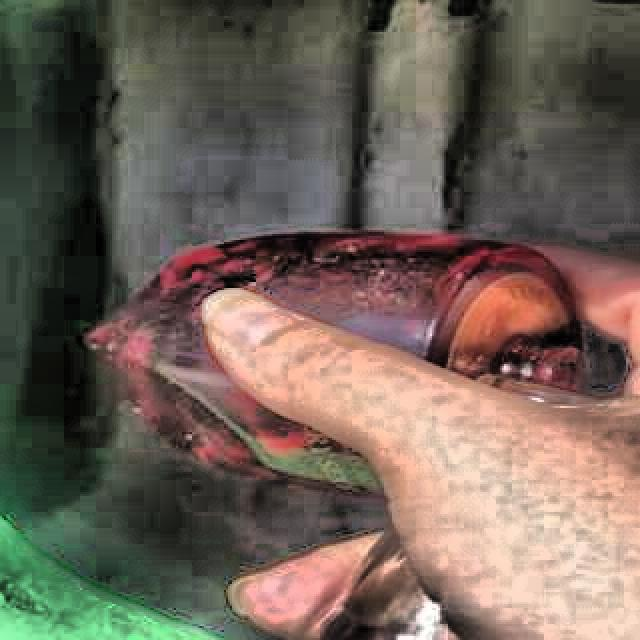glass: (91, 232, 581, 490)
